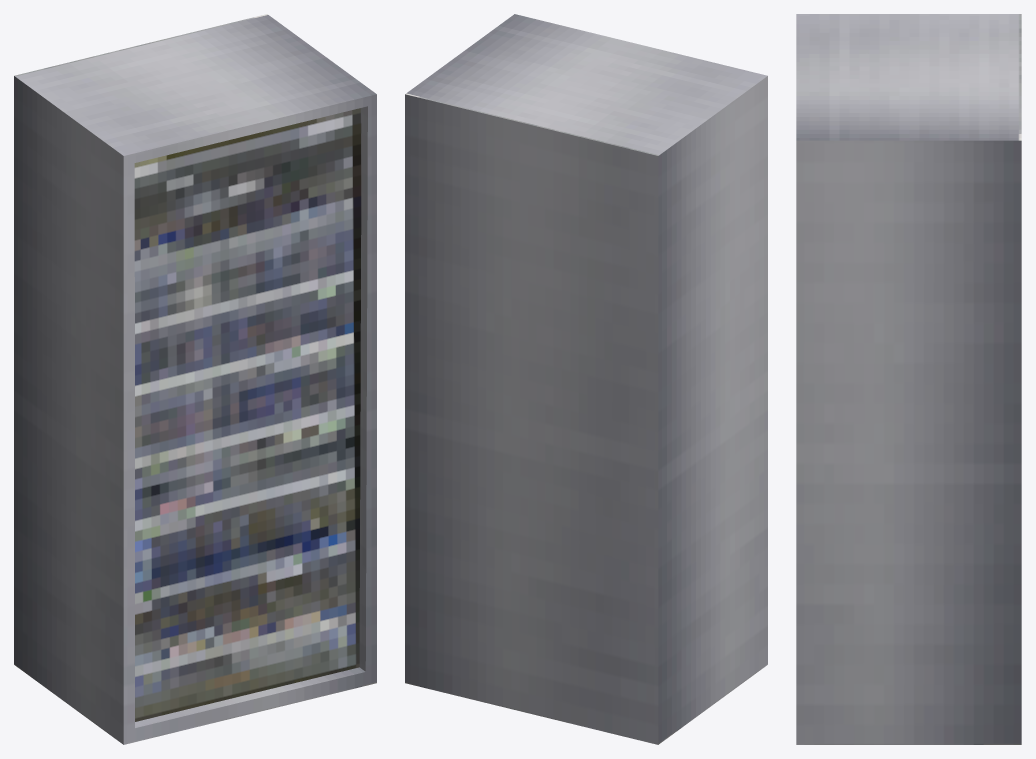
Rendered from Refrigerador.fbx.
3 renders of one model, left to right at view 1: azimuth 30°, elevation 25°; view 2: azimuth 150°, elevation 25°; view 3: azimuth 270°, elevation 25°, orthographic. The views are drawn at different scales.
Visible parts, largest first — view 1: Refrigerador; view 2: Refrigerador; view 3: Refrigerador.
Boxes of the visible parts, x1,y1,x2,y2 form: Refrigerador: (14, 14, 376, 744); Refrigerador: (405, 14, 767, 744); Refrigerador: (796, 14, 1021, 744).
Bounding box in the file's own units: 90 × 200 × 67.5.
1 material, 1 textured.
